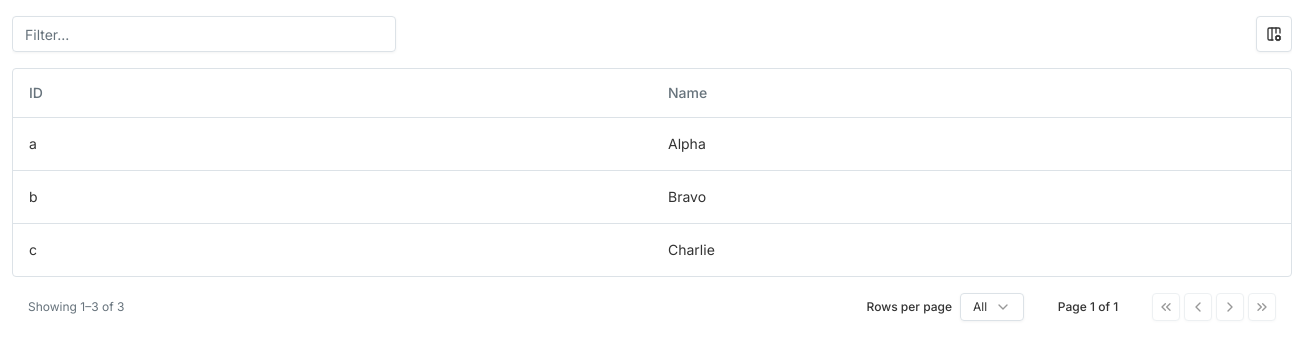
Test case: DataTable — uncontrolled filter is still routed through the same input › falls back to internal column filter state when `filterValue` is omitted
The width and height of the screenshot is (1304, 338).
In the field with placeholder "Filter...": (204, 34) [13,16,395,52], type "Bra"
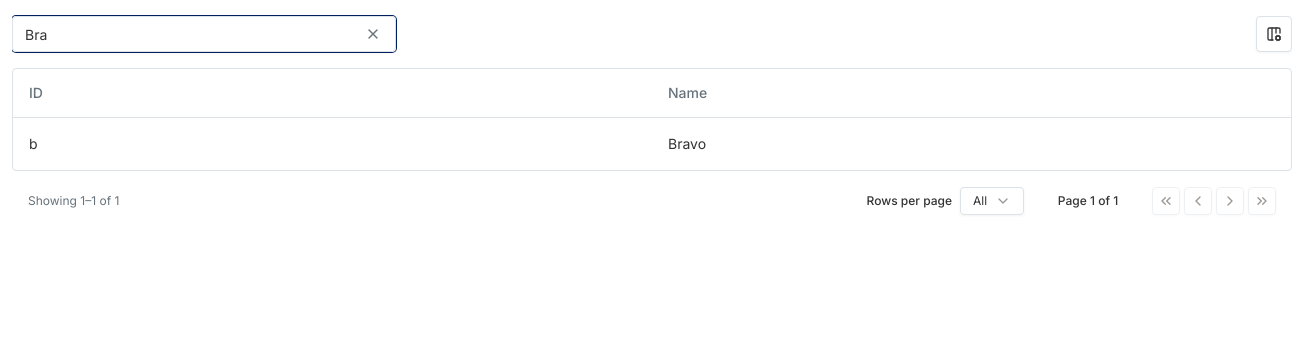
expect the text "Bravo" is shown: met, box [652,117,1291,170]
expect the text "Alpha" is gone: met
